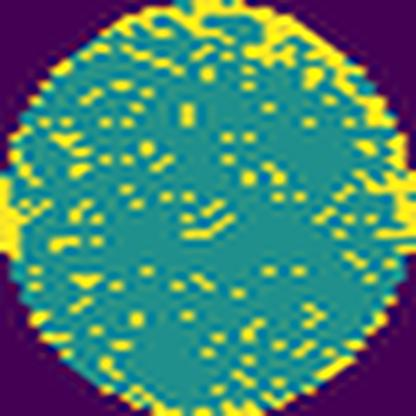Edge-Loc: (93, 0, 404, 128), (356, 132, 415, 257), (0, 165, 26, 268)
